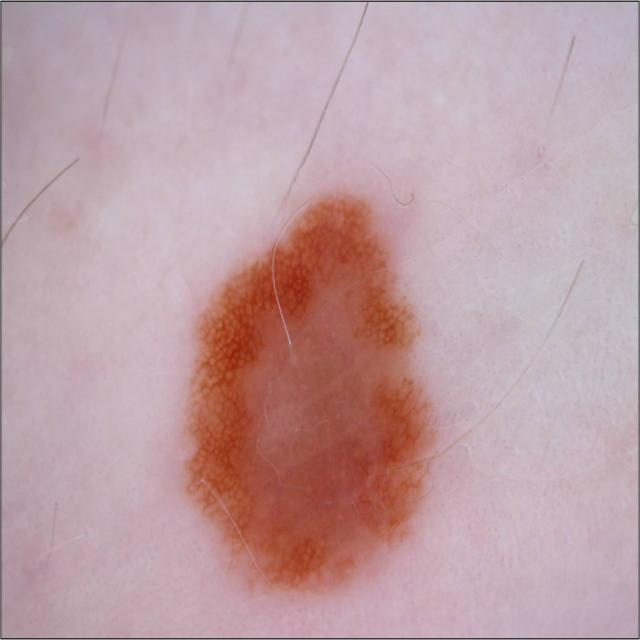Benign: (176, 185, 450, 613)
